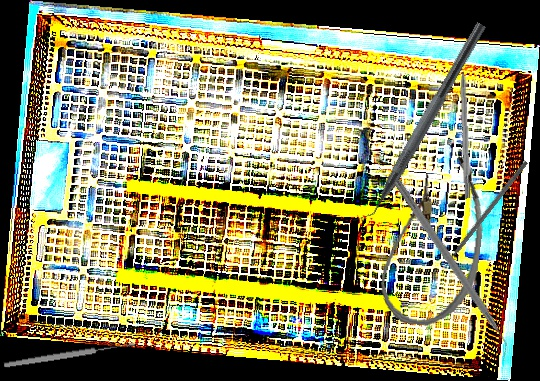Cannula: (376, 148, 492, 332)
Chopper: (349, 13, 487, 233), (383, 178, 518, 364)
Hook Surgical: (439, 159, 529, 271), (458, 53, 473, 199)
Surgical Spoon: (3, 340, 136, 370)
